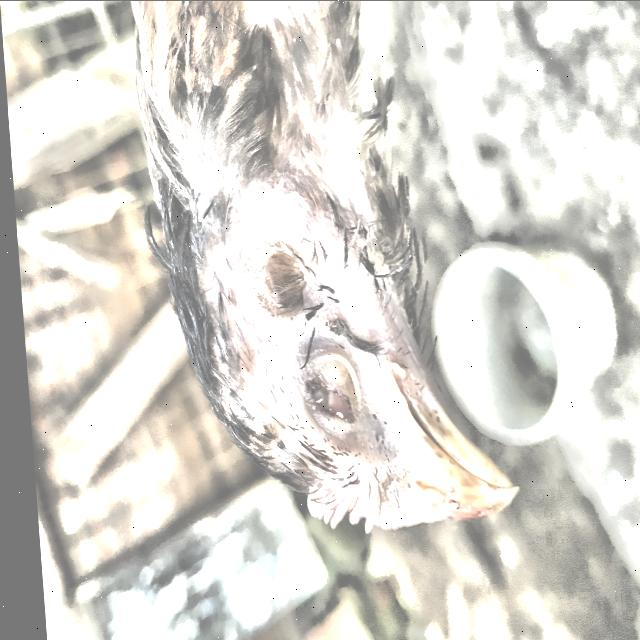Coryza: (132, 65, 561, 592)
